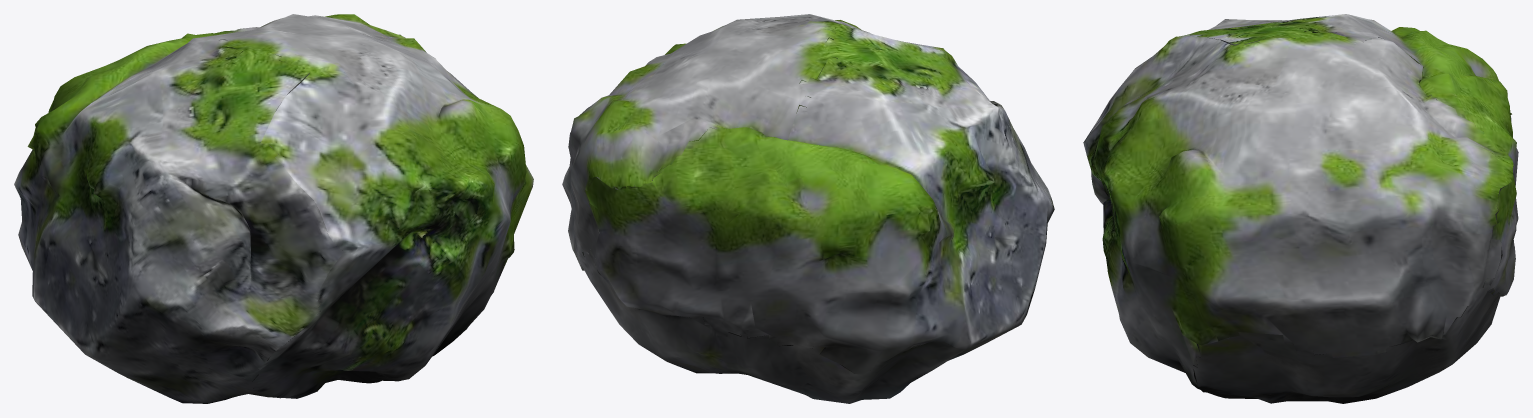
The model's file is prop_batu_besar.glb.
3 renders of one model, left to right at view 1: azimuth 30°, elevation 25°; view 2: azimuth 150°, elevation 25°; view 3: azimuth 270°, elevation 25°, orthographic. The views are drawn at different scales.
Parts seen in each view (by area): view 1: prop_batu_besar; view 2: prop_batu_besar; view 3: prop_batu_besar.
Boxes of the visible parts, x1=… form: prop_batu_besar: x1=14, y1=14, x2=533, y2=403; prop_batu_besar: x1=562, y1=14, x2=1054, y2=403; prop_batu_besar: x1=1083, y1=14, x2=1518, y2=403.
Size of the model in its own units: 1.4 by 1.03 by 1.26.
Materials: 1 (1 with a texture image).
